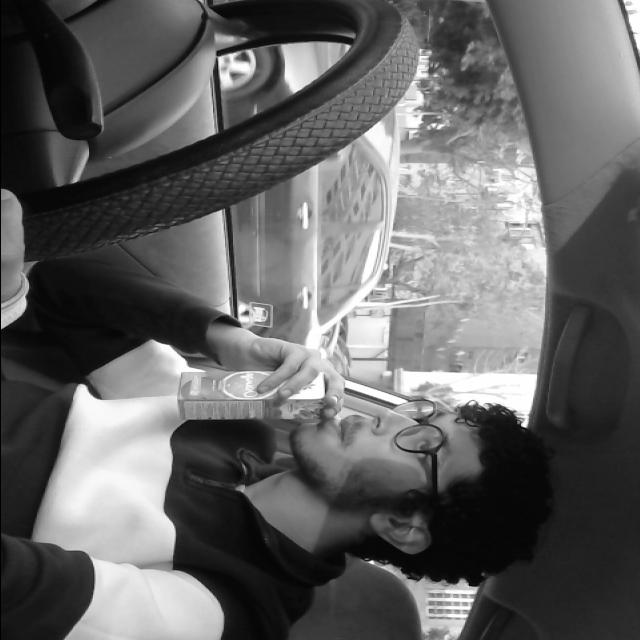drinking: (168, 368, 356, 430)
